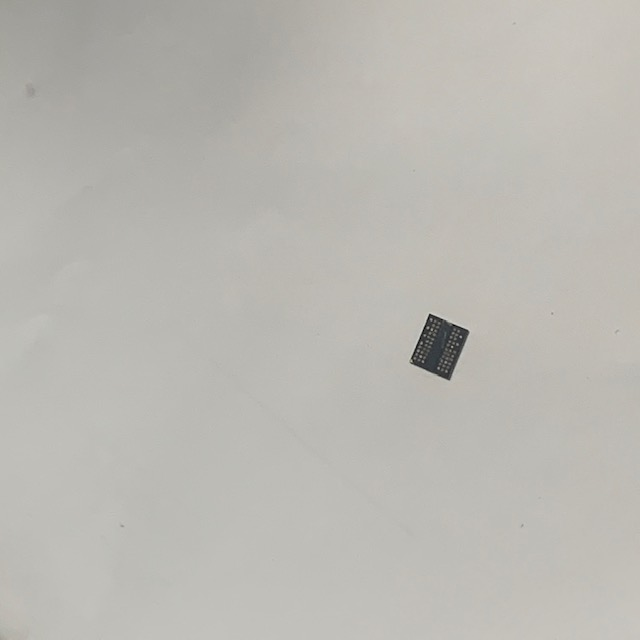IC: (406, 310, 473, 384)
